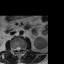CCS_normal: (17, 45, 19, 54)
LFS_normal: (21, 45, 23, 51)
LLS_normal: (19, 45, 21, 52)
RFS_stenosis: (13, 46, 15, 51)
RLS_normal: (15, 45, 17, 52)
